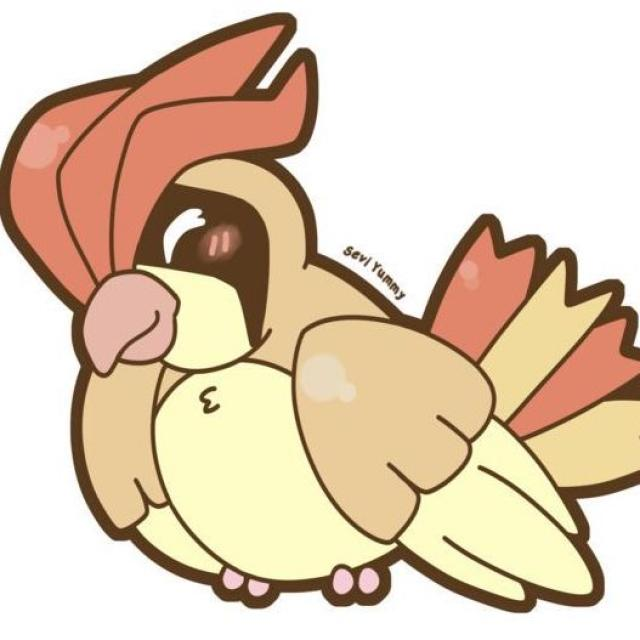Pidgeotto: (21, 22, 640, 576)
